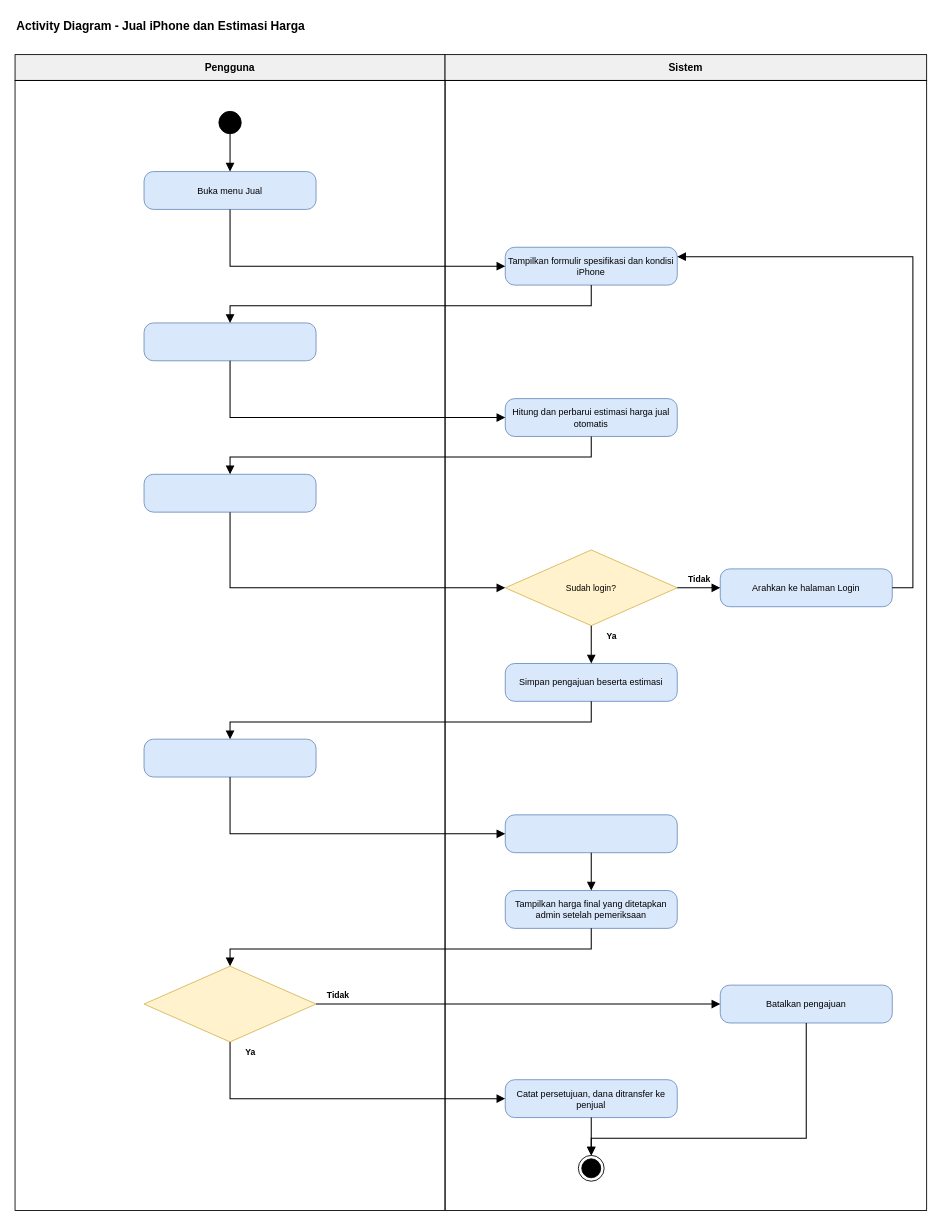
Some shapes in this 942 by 1226 pixel diagram are drawn without their labels. The box of each missing label's shape, as (x1, y1, x2, y2) in pixels:
Isi spesifikasi, kondisi, dan foto iPhone: (143, 322, 316, 361)
Pilih lokasi, tanggal, dan waktu pemeriksaan: (143, 738, 316, 777)
Setuju dengan harga final?: (143, 965, 316, 1042)
Simpan jadwal pemeriksaan: (504, 814, 677, 853)
Tekan "Lanjut jadwalkan pemeriksaan": (143, 473, 316, 512)
